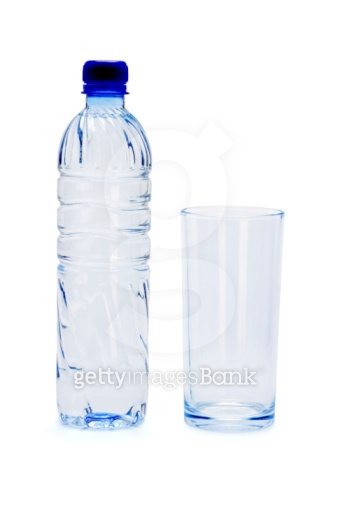glass of water: (181, 206, 279, 424)
